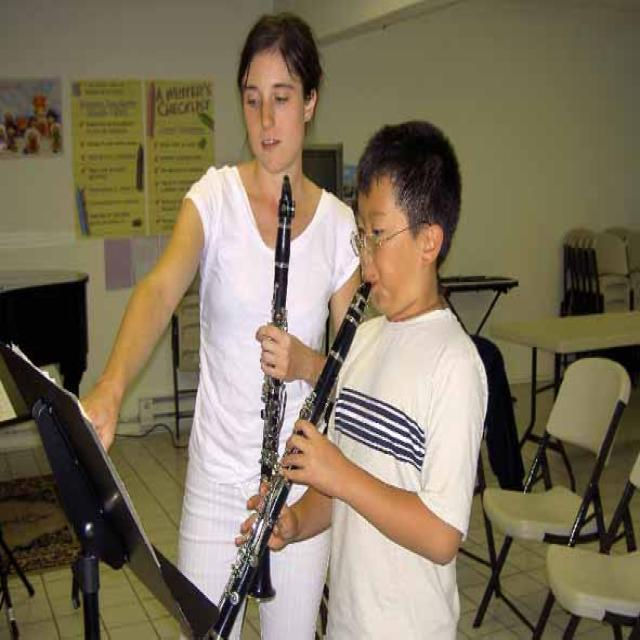clarinet: (194, 273, 373, 640), (235, 171, 297, 606)
